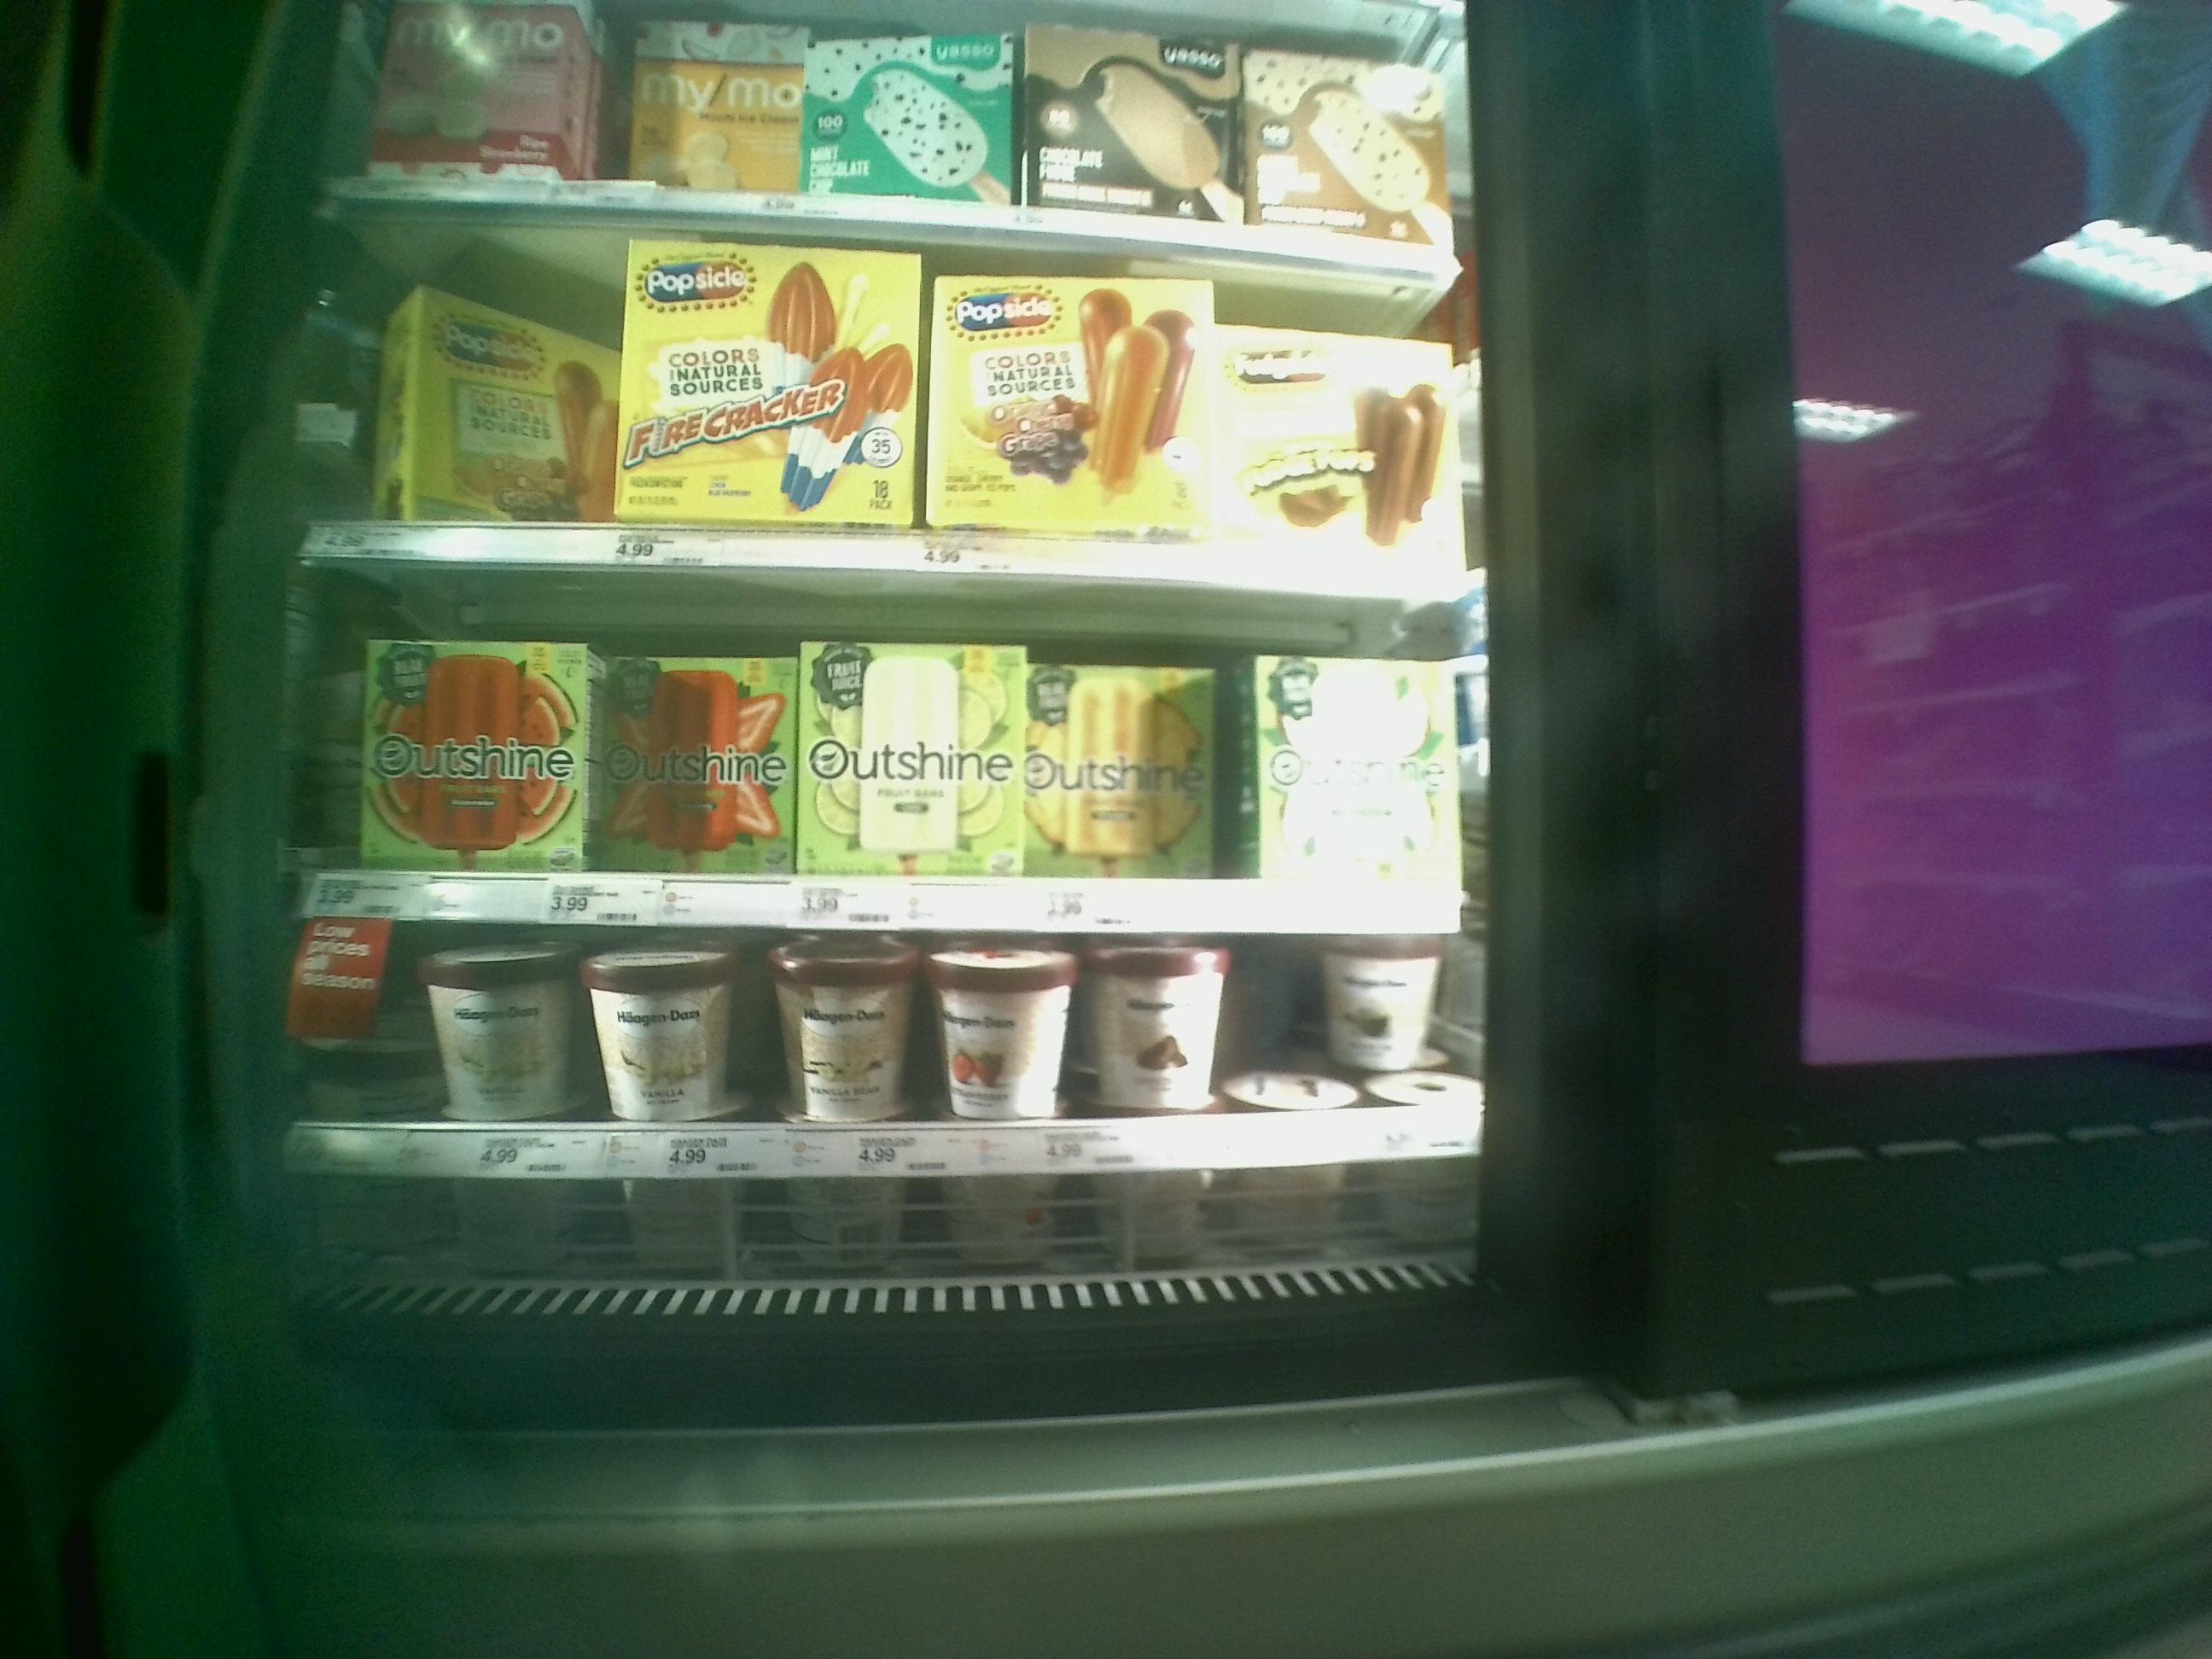ice-cream-shelf: (296, 207, 1491, 573), (296, 573, 1484, 924), (296, 924, 1498, 1178)
